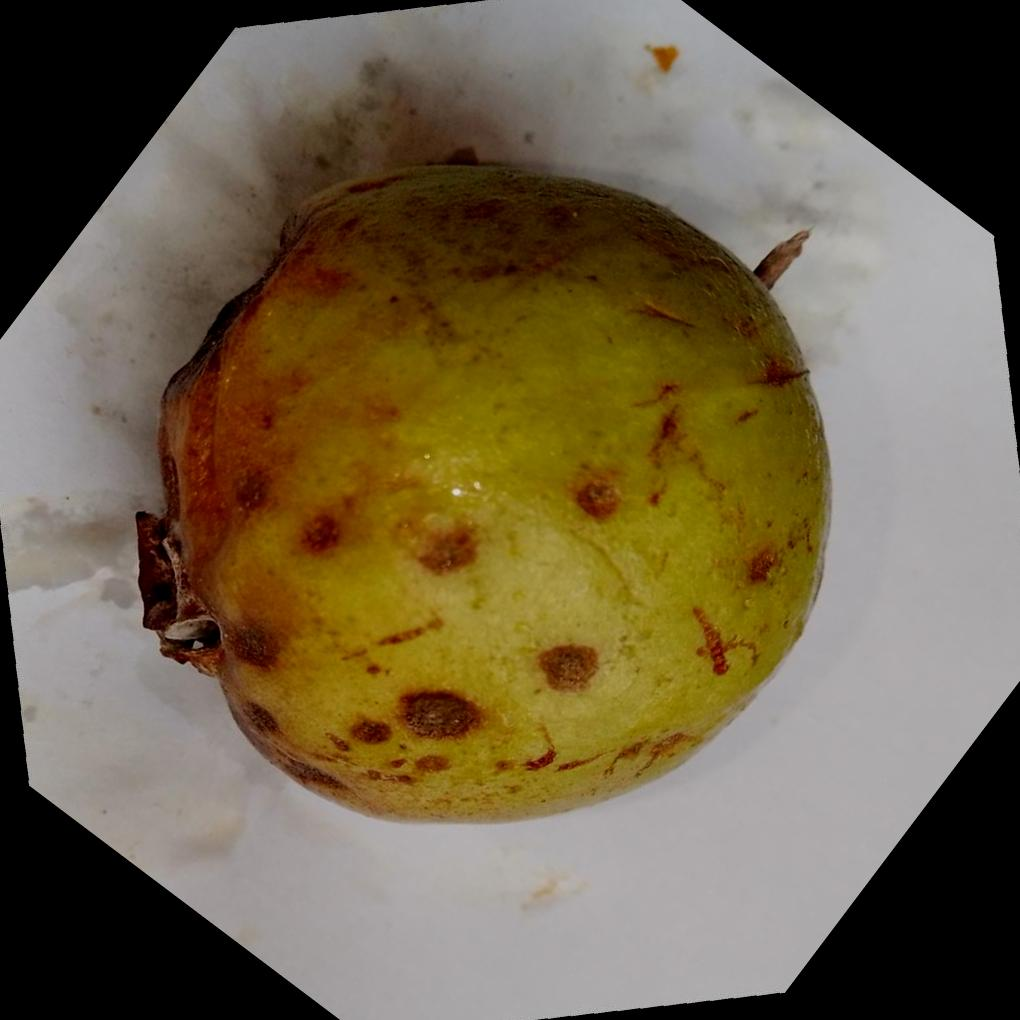FreshOrange: (154, 161, 831, 827)
